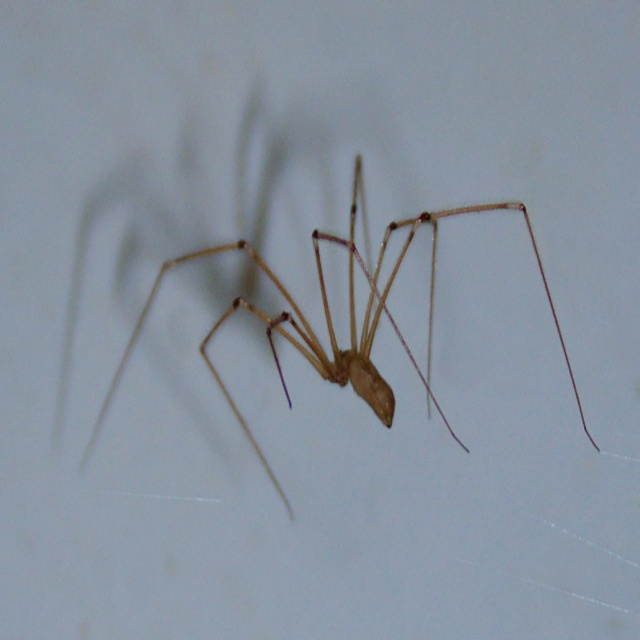Spider: (79, 154, 600, 525)
